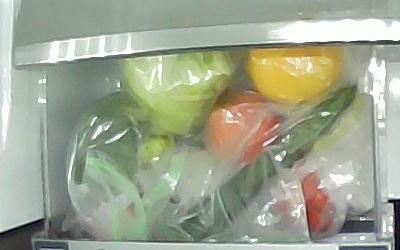apple_vinyl: (206, 89, 284, 163)
broccoli_vinyl: (77, 92, 175, 191)
cucumber_vinyl: (159, 81, 358, 244)
grapefruit_vinyl: (249, 44, 342, 105)
lettuce_vinyl: (118, 50, 243, 136)
paprika_vinyl: (277, 163, 338, 234)
